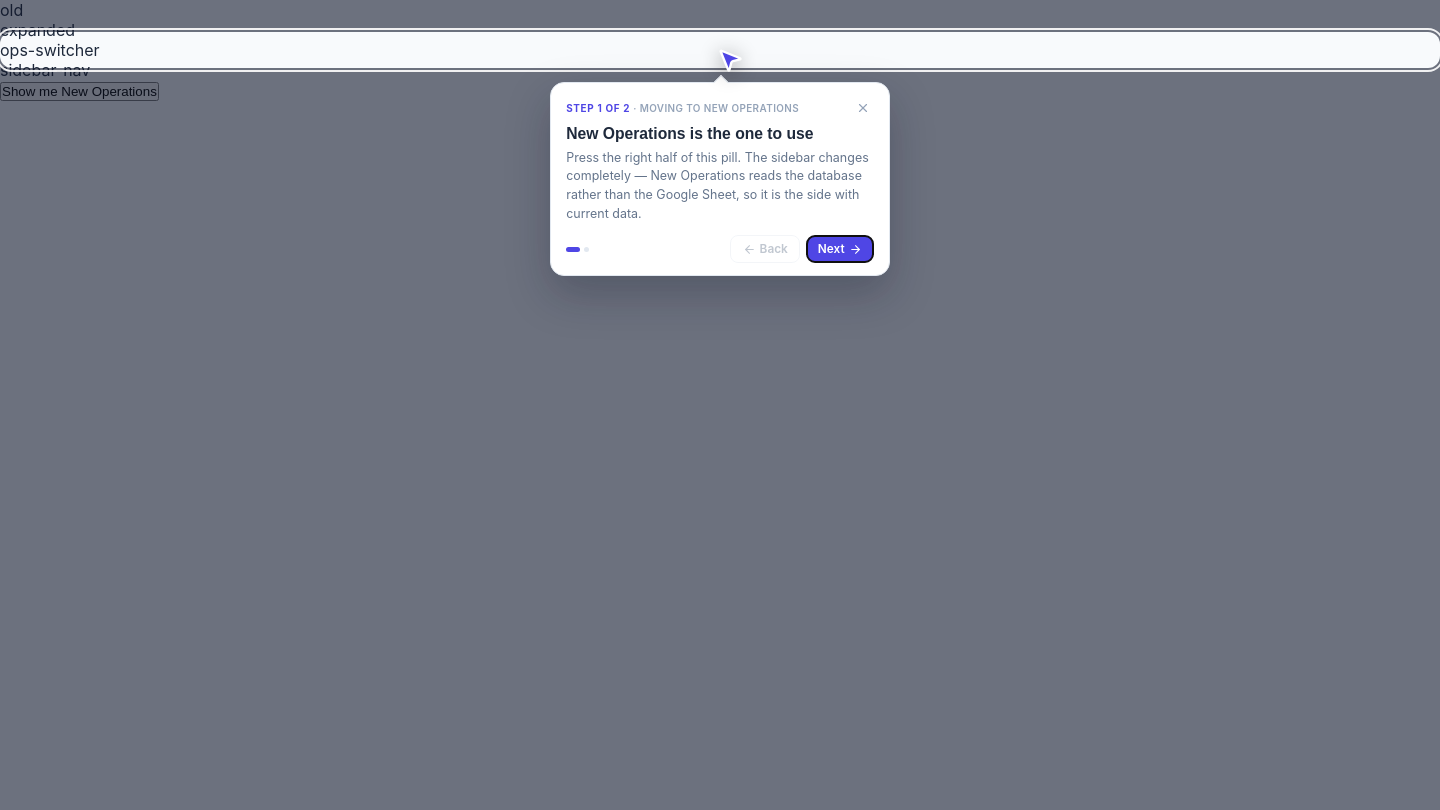
Test: TourProvider: sunset tour anchors that are not on the page › runs the switcher and the nav are present, counting only the present steps
Expected: the heading "New Operations is the one to use" is shown, [566,125,814,142]
Click the button "Next": (840, 249) [806,236,874,263]
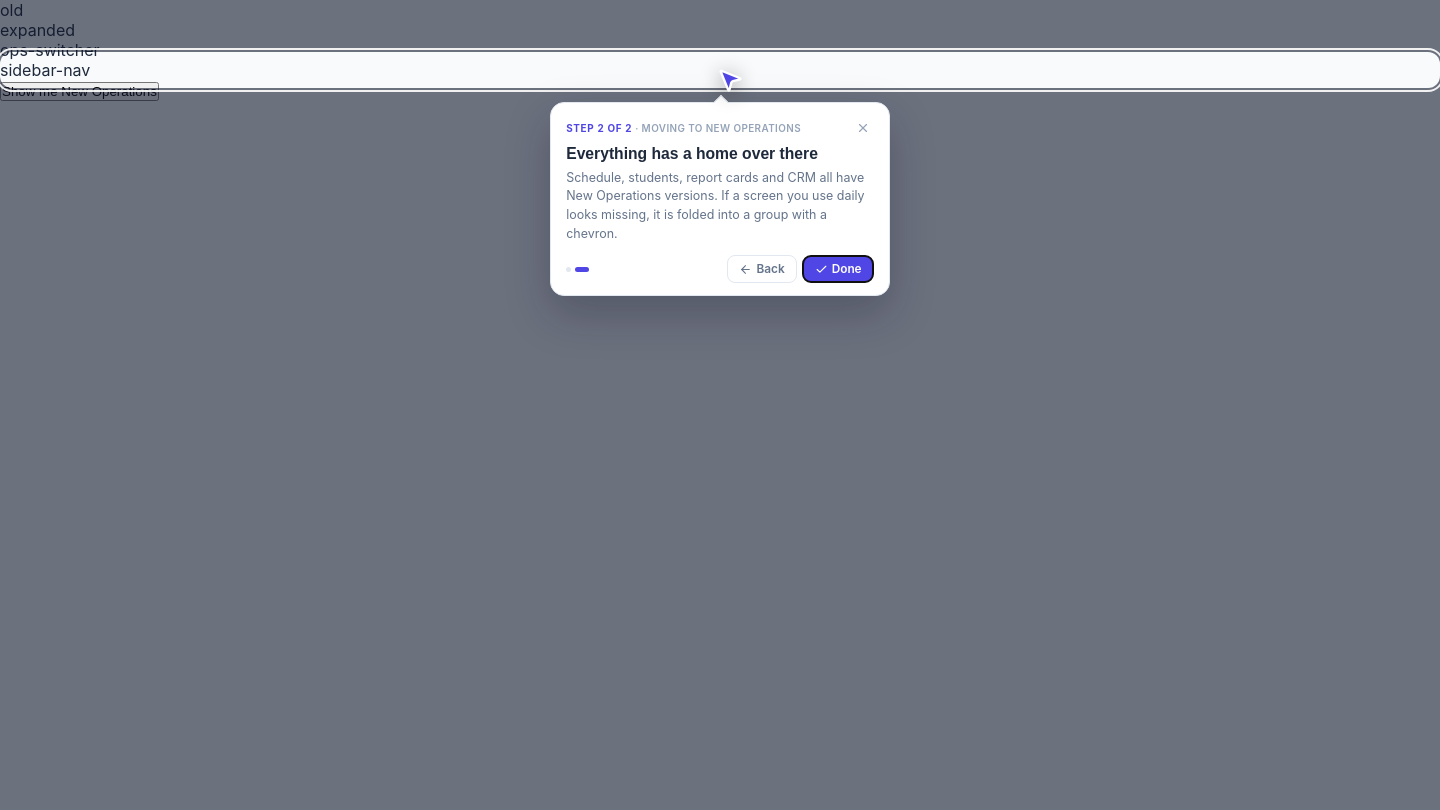
Expected: the heading "Everything has a home over there" is shown, [566,145,818,162]
Expected: the button "Done" is shown
Click the button "Done": (838, 269) [802,256,874,283]
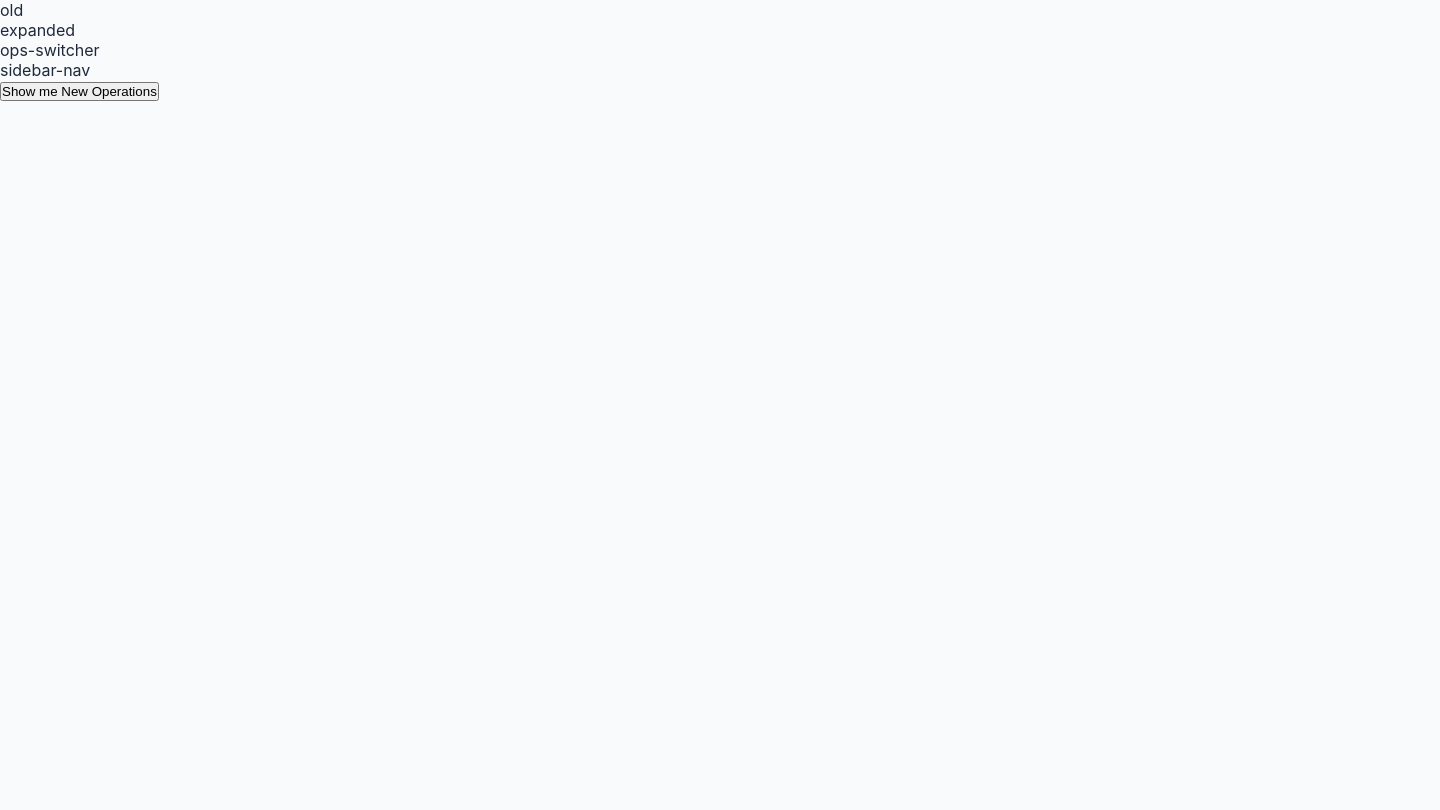
Expected: the dialog is gone
